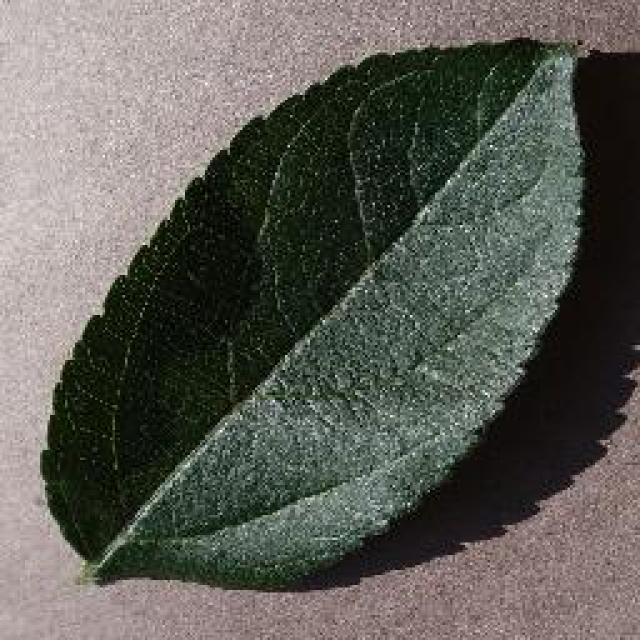apple scab disease: (38, 32, 590, 590)
